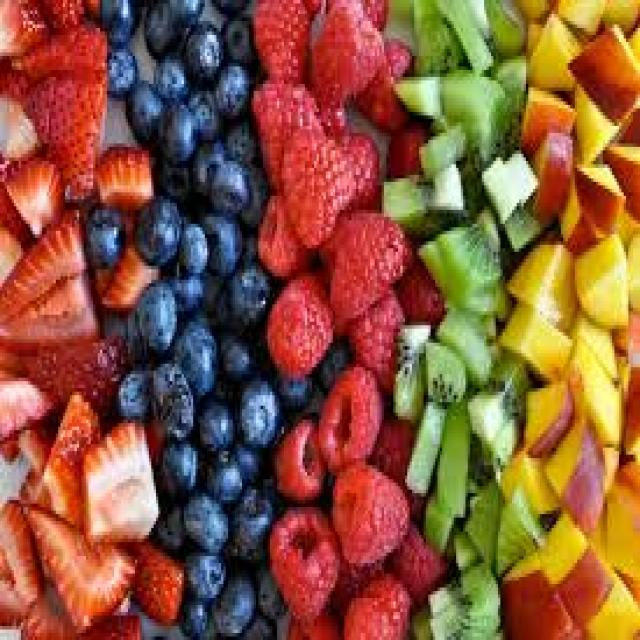Organik: (103, 0, 271, 640), (0, 0, 168, 637), (256, 0, 420, 633), (392, 0, 522, 640), (526, 0, 640, 640)
